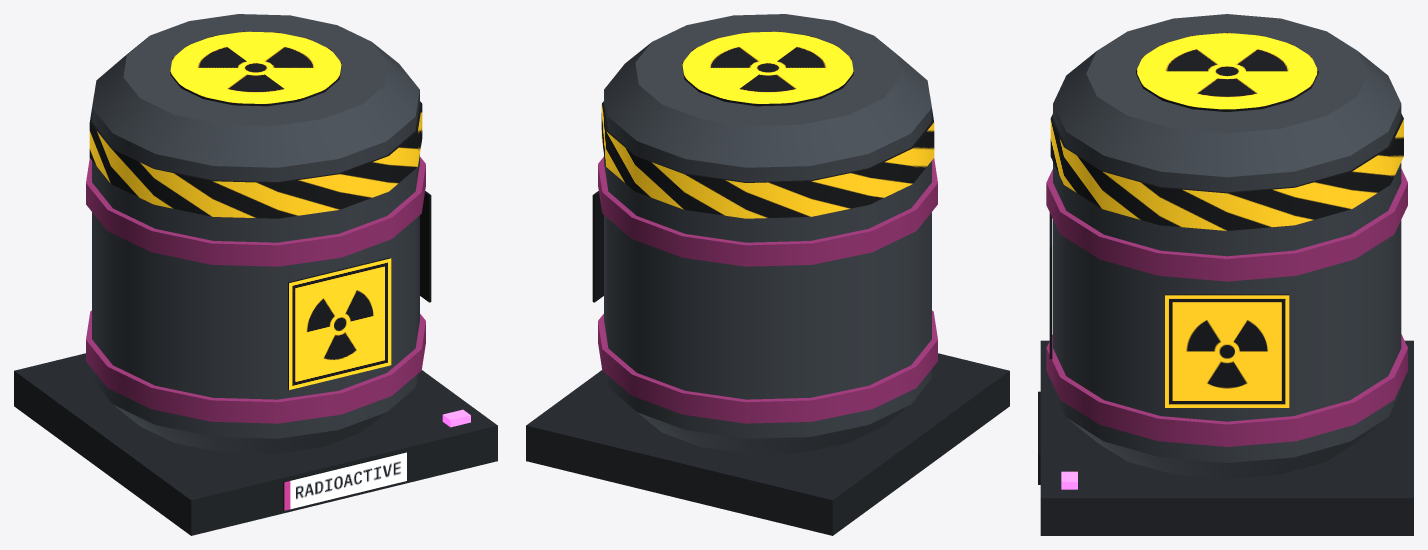
File: cargo_07_cask.glb
3 renders of one model, left to right at view 1: azimuth 30°, elevation 25°; view 2: azimuth 150°, elevation 25°; view 3: azimuth 270°, elevation 25°, orthographic. The views are drawn at different scales.
Parts seen in each view (by area): view 1: drum, plinth, chamfer_upper, hazard_band, trefoil_front, trefoil_top, id_band_1, id_band_2, manifest, chamfer_lower, trefoil_side; view 2: drum, plinth, chamfer_upper, hazard_band, trefoil_top, id_band_1, id_band_2, chamfer_lower, trefoil_side; view 3: drum, plinth, chamfer_upper, trefoil_side, hazard_band, trefoil_top, id_band_2, id_band_1, chamfer_lower, trefoil_front.
Part boxes in pixels (x1,y1,x2,y2): drum: [92, 90, 419, 438]; plinth: [14, 353, 497, 535]; chamfer_upper: [92, 14, 419, 167]; hazard_band: [89, 96, 422, 218]; trefoil_front: [288, 257, 391, 389]; trefoil_top: [170, 31, 341, 106]; id_band_1: [86, 310, 425, 423]; id_band_2: [86, 157, 425, 266]; manifest: [283, 451, 406, 510]; chamfer_lower: [114, 405, 386, 454]; trefoil_side: [420, 191, 431, 302]; drum: [604, 90, 931, 438]; plinth: [526, 353, 1009, 535]; chamfer_upper: [604, 14, 931, 167]; hazard_band: [601, 96, 934, 218]; trefoil_top: [682, 31, 853, 106]; id_band_1: [598, 310, 937, 423]; id_band_2: [598, 157, 937, 266]; chamfer_lower: [637, 405, 909, 454]; trefoil_side: [592, 191, 603, 302]; drum: [1053, 104, 1401, 462]; plinth: [1040, 340, 1413, 535]; chamfer_upper: [1053, 14, 1401, 177]; trefoil_side: [1165, 294, 1289, 407]; hazard_band: [1050, 113, 1403, 230]; trefoil_top: [1136, 32, 1318, 111]; id_band_2: [1046, 169, 1407, 281]; id_band_1: [1046, 334, 1407, 446]; chamfer_lower: [1067, 418, 1386, 478]; trefoil_front: [1049, 213, 1052, 359].
Bounding box in the file's own units: 0.9 × 1.03 × 0.906.
Materials: 10 (4 with a texture image).
